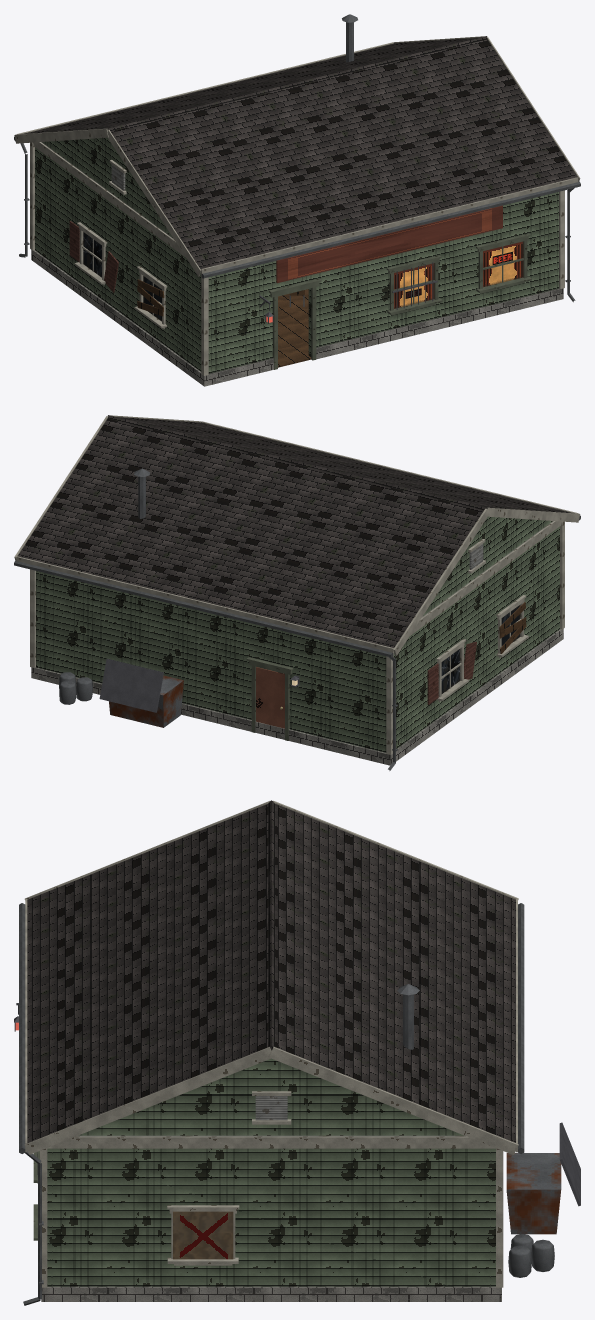
Rendered from bar.glb.
3 views of the same model, one above another, from view 1: azimuth 30°, elevation 25°; view 2: azimuth 150°, elevation 25°; view 3: azimuth 270°, elevation 25° (orthographic). The views are drawn at different scales.
Parts seen in each view (by area): view 1: detail, shell-col; view 2: detail, shell-col; view 3: detail, shell-col.
Part boxes in pixels (box(x1,y1,x2,y2)): detail: box(14, 14, 580, 386); shell-col: box(35, 142, 558, 373); detail: box(14, 415, 580, 770); shell-col: box(36, 521, 559, 752); detail: box(14, 800, 580, 1305); shell-col: box(47, 1135, 495, 1286).
Size of what is drawn, in the model's own units: 12.82 by 6.51 by 12.43.
38 materials, 38 textured.
